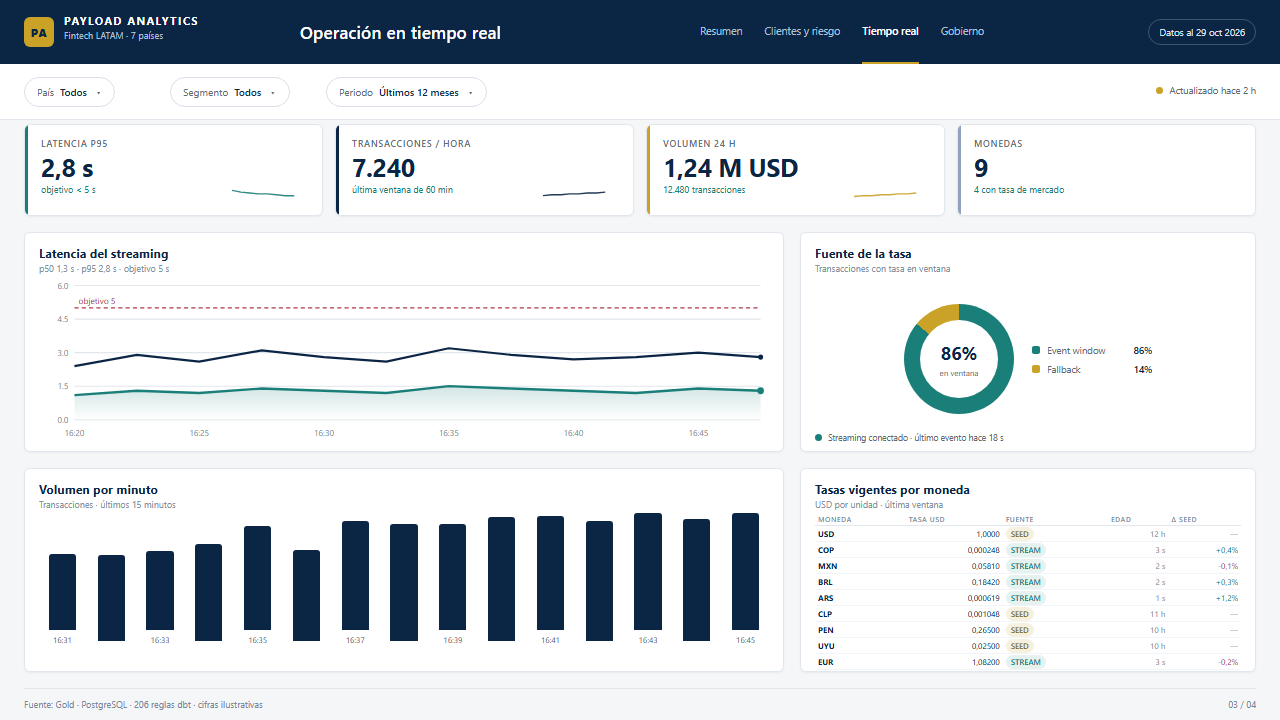

Layout of this report page (visuals, bound fields, positions):
{"tool":"powerbi","page":{"name":"Tiempo real","canvas":[1280,720],"ordinal":2},"visuals":[{"type":"textbox","box":[0,0,1280,720],"z":0},{"type":"textbox","box":[0,64,1280,56],"z":100},{"type":"textbox","box":[24,684,1232,1],"z":100},{"type":"textbox","box":[0,119,1280,1],"z":101},{"type":"slicer","fields":{"Values":["gold dim_customer.country"]},"box":[24,77,180,32],"z":200},{"type":"slicer","fields":{"Values":["gold dim_customer.customer_segment"]},"box":[216,77,190,32],"z":200},{"type":"slicer","fields":{"Values":["gold dim_date.year"]},"box":[418,77,140,32],"z":200},{"type":"card","fields":{"Values":["Medidas.Latencia p95"]},"box":[24,124,299,84],"z":200},{"type":"card","fields":{"Values":["Medidas.Transacciones última hora"]},"box":[335,124,299,84],"z":200},{"type":"card","fields":{"Values":["Medidas.Volumen 24 h"]},"box":[646,124,299,84],"z":200},{"type":"card","fields":{"Values":["Medidas.Monedas activas"]},"box":[957,124,299,84],"z":200},{"type":"lineChart","title":"Latencia mediana del streaming (s)","fields":{"Category":["gold fct_live_transactions.Minuto"],"Y":["Medidas.Latencia mediana (s)"]},"box":[24,216,760,200],"z":200},{"type":"card","fields":{"Values":["Medidas.Cobertura FX %"]},"box":[800,216,456,200],"z":200},{"type":"clusteredColumnChart","title":"Volumen por minuto","fields":{"Category":["gold fct_live_transactions.Minuto"],"Y":["CountNonNull(gold fct_live_transactions.transaction_id)"]},"box":[24,424,760,248],"z":200},{"type":"tableEx","title":"Tasas vigentes por moneda","fields":{"Values":["gold dim_fx_rate_current.currency","gold dim_fx_rate_current.usd_per_unit","gold dim_fx_rate_current.rate_source","gold dim_fx_rate_current.rate_event_time"]},"box":[800,424,456,248],"z":200},{"type":"textbox","box":[0,0,1280,64],"z":1000},{"type":"textbox","box":[680,16,350,32],"z":1090},{"type":"textbox","box":[24,10,230,44],"z":1100},{"type":"pageNavigator","box":[680,16,350,32],"z":1100},{"type":"textbox","box":[260,18,430,30],"z":1100},{"type":"textbox","box":[1150,21,106,22],"z":1100},{"type":"textbox","box":[960,84,296,20],"z":1100},{"type":"textbox","box":[24,694,900,16],"z":1100},{"type":"textbox","box":[1180,694,76,16],"z":1100},{"type":"textbox","box":[0,0,4,64],"z":1200}]}

Visuals, with their boxes in screenshot pixels (x1, y1, x2, y2), scaled from the page's 1280x720 canvas onto the 1280x720 screenshot:
textbox: detection(0, 0, 1279, 719)
textbox: detection(0, 64, 1279, 120)
textbox: detection(24, 684, 1256, 685)
textbox: detection(0, 119, 1279, 120)
slicer - gold dim_customer.country: detection(24, 77, 204, 109)
slicer - gold dim_customer.customer_segment: detection(216, 77, 406, 109)
slicer - gold dim_date.year: detection(418, 77, 558, 109)
card - Medidas.Latencia p95: detection(24, 124, 323, 208)
card - Medidas.Transacciones última hora: detection(335, 124, 634, 208)
card - Medidas.Volumen 24 h: detection(646, 124, 945, 208)
card - Medidas.Monedas activas: detection(957, 124, 1256, 208)
"Latencia mediana del streaming (s)" lineChart: detection(24, 216, 784, 416)
card - Medidas.Cobertura FX %: detection(800, 216, 1256, 416)
"Volumen por minuto" clusteredColumnChart: detection(24, 424, 784, 672)
"Tasas vigentes por moneda" tableEx: detection(800, 424, 1256, 672)
textbox: detection(0, 0, 1279, 64)
textbox: detection(680, 16, 1030, 48)
textbox: detection(24, 10, 254, 54)
pageNavigator: detection(680, 16, 1030, 48)
textbox: detection(260, 18, 690, 48)
textbox: detection(1150, 21, 1256, 43)
textbox: detection(960, 84, 1256, 104)
textbox: detection(24, 694, 924, 710)
textbox: detection(1180, 694, 1256, 710)
textbox: detection(0, 0, 4, 64)
